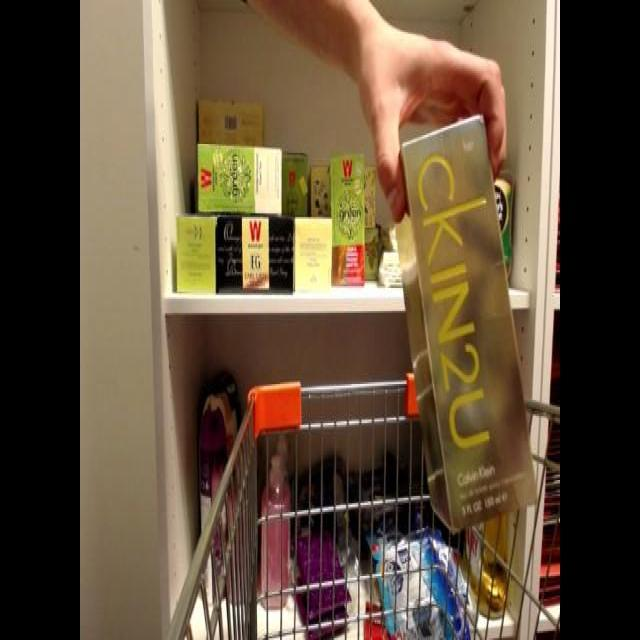Calvin Klein: (378, 103, 542, 535)
